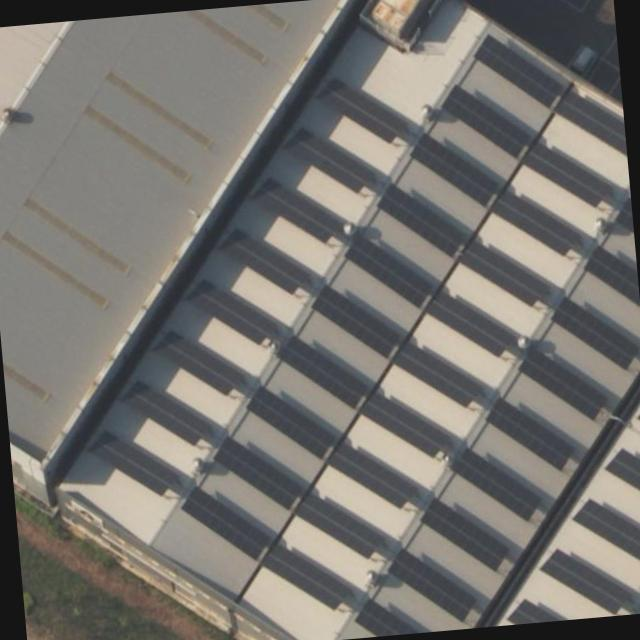solar: (241, 375, 341, 468), (438, 76, 538, 166), (208, 427, 308, 517), (306, 277, 407, 366), (443, 438, 542, 528), (406, 124, 502, 216), (511, 338, 609, 428), (544, 287, 640, 378), (373, 176, 472, 264), (412, 490, 510, 578), (175, 481, 274, 568), (115, 371, 216, 456), (383, 540, 480, 628), (275, 328, 373, 415), (339, 229, 438, 315), (312, 64, 410, 150), (244, 167, 343, 250), (84, 419, 180, 504), (148, 322, 246, 405), (212, 218, 310, 301), (472, 27, 566, 112), (421, 283, 517, 366), (536, 540, 634, 621), (482, 392, 575, 477), (258, 538, 356, 617), (488, 184, 584, 263), (183, 272, 278, 351), (392, 334, 482, 416), (458, 234, 550, 314), (324, 436, 417, 514), (292, 490, 387, 566), (520, 136, 612, 214), (279, 122, 371, 198), (356, 389, 450, 462), (548, 78, 626, 161), (568, 490, 640, 570), (579, 236, 639, 312), (349, 594, 426, 637), (598, 442, 640, 508), (502, 595, 567, 624)
